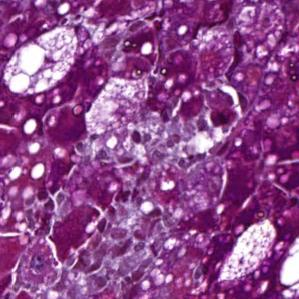ballooning: (4, 24, 79, 96), (219, 218, 278, 284)
